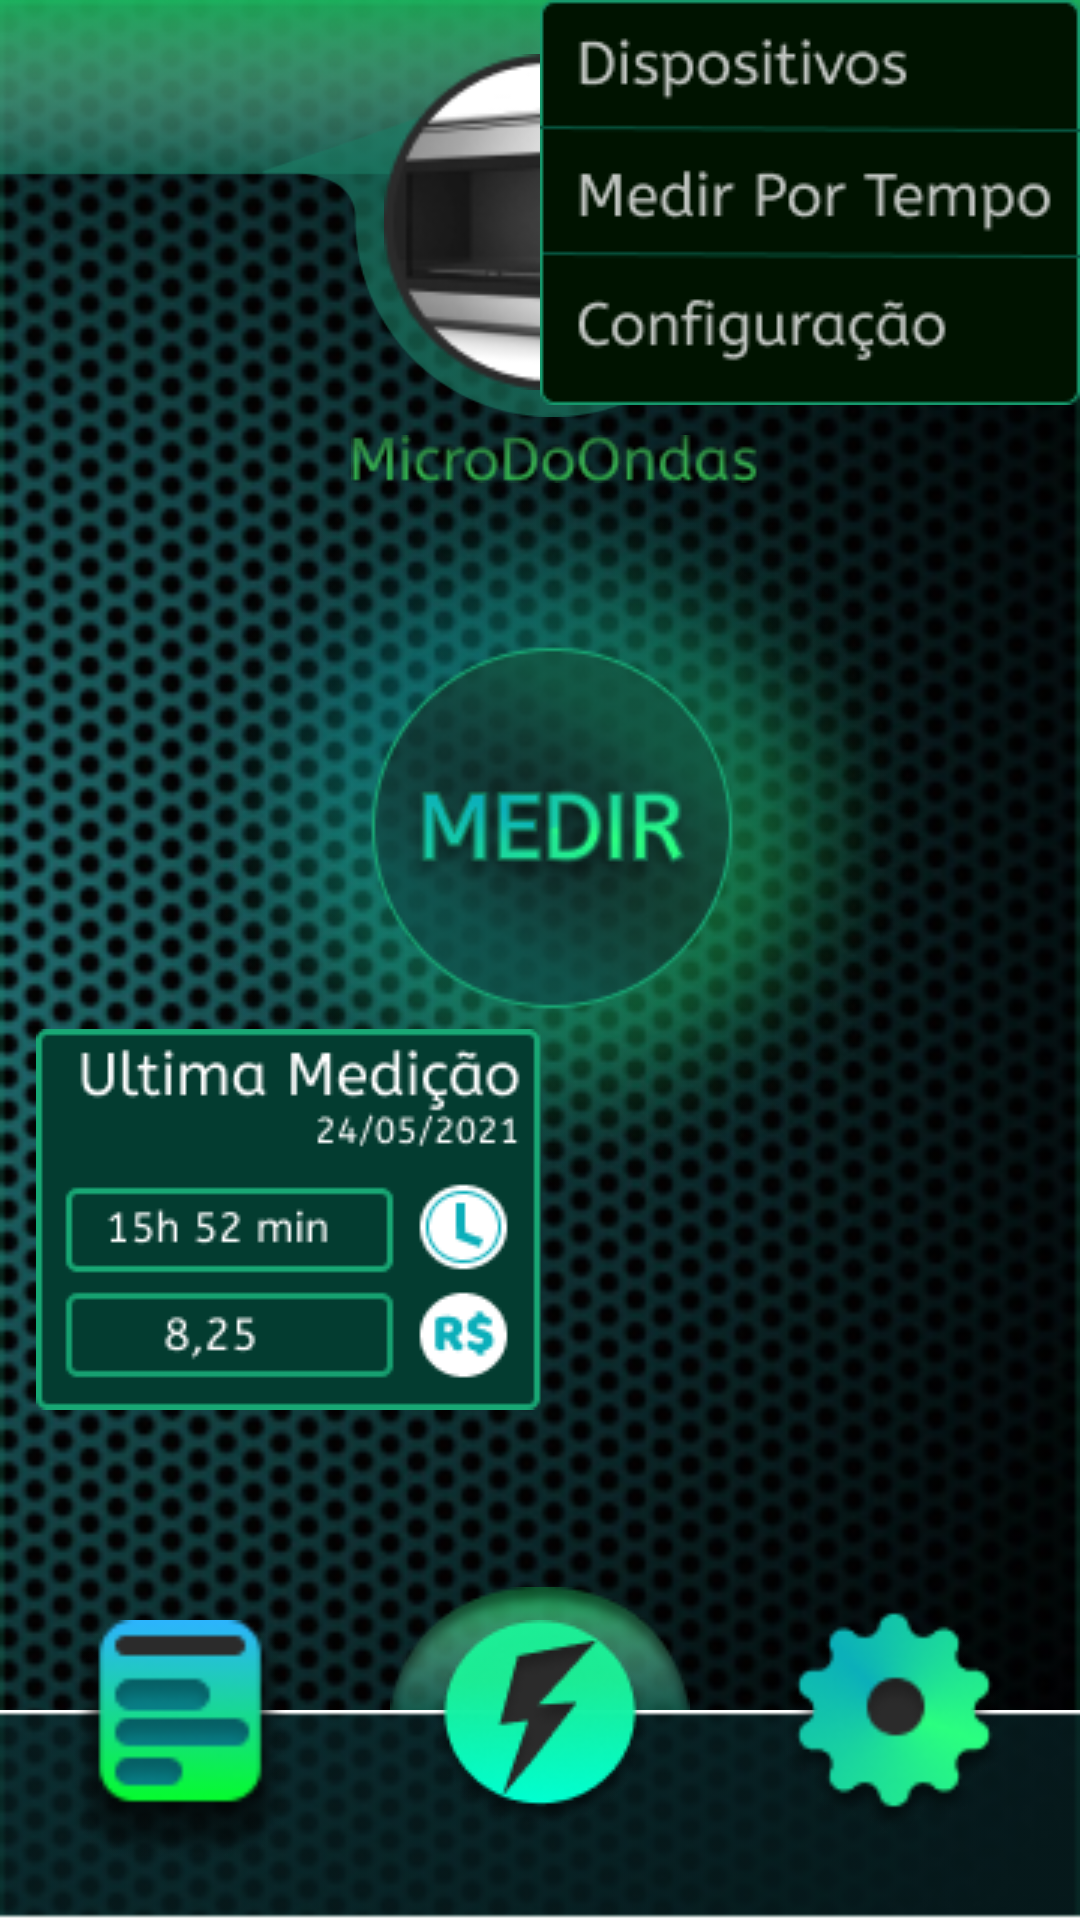

Screen size 1080 x 1920. Icon name, then its center in pixels as point (x, y):
configicon: point (894, 1688)
histicon: point (180, 1731)
